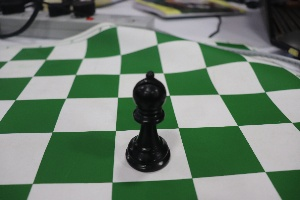black_bishop: (119, 56, 178, 177)
